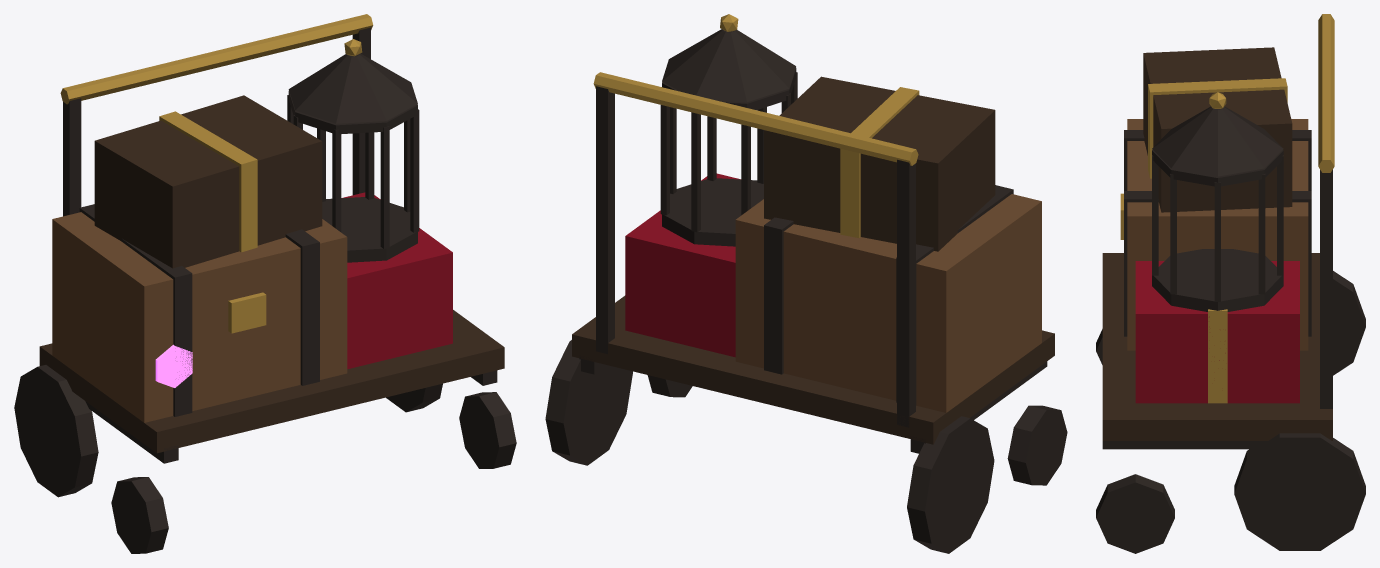
File: trolley.glb
The picture shows the model from 3 angles, left to right: view 1: azimuth 30°, elevation 25°; view 2: azimuth 150°, elevation 25°; view 3: azimuth 270°, elevation 25°; orthographic projection. The views are drawn at different scales.
Visible parts, largest first — view 1: Trunk_1, Trunk_3, Deck, Trunk_2, WheelBig_L, CageDome, HandleBar, CageBase, WheelSmall_R, WheelSmall_L, Trunk3_Strap, Trunk1_Strap1 (+13 smaller); view 2: Trunk_1, Trunk_3, Deck, Trunk_2, WheelBig_L, WheelBig_R, CageDome, HandleBar, HandlePost_L, HandlePost_R, CageBase, WheelSmall_L (+10 smaller); view 3: Trunk_2, Deck, Trunk_3, WheelBig_R, Trunk_1, CageDome, CageBase, WheelSmall_R, HandlePost_R, HandleBar, WheelBig_L, Trunk3_Strap (+10 smaller).
Part boxes in pixels (x1=…): Trunk_1: x1=52, y1=212, x2=347, y2=422; Trunk_3: x1=94, y1=95, x2=322, y2=268; Deck: x1=39, y1=310, x2=504, y2=453; Trunk_2: x1=341, y1=192, x2=452, y2=369; WheelBig_L: x1=14, y1=365, x2=98, y2=497; CageDome: x1=288, y1=53, x2=417, y2=123; HandleBar: x1=60, y1=14, x2=373, y2=104; CageBase: x1=322, y1=197, x2=417, y2=262; WheelSmall_R: x1=459, y1=392, x2=516, y2=468; WheelSmall_L: x1=111, y1=477, x2=168, y2=553; Trunk3_Strap: x1=159, y1=111, x2=257, y2=252; Trunk1_Strap1: x1=285, y1=229, x2=319, y2=385; Trunk_1: x1=735, y1=194, x2=1041, y2=412; Trunk_3: x1=764, y1=76, x2=995, y2=251; Deck: x1=572, y1=295, x2=1054, y2=444; Trunk_2: x1=625, y1=173, x2=740, y2=357; WheelBig_L: x1=907, y1=416, x2=994, y2=553; WheelBig_R: x1=545, y1=340, x2=632, y2=465; CageDome: x1=662, y1=29, x2=795, y2=102; HandleBar: x1=593, y1=72, x2=918, y2=165; HandlePost_L: x1=897, y1=159, x2=915, y2=427; HandlePost_R: x1=596, y1=86, x2=614, y2=354; CageBase: x1=662, y1=178, x2=763, y2=246; WheelSmall_L: x1=1007, y1=405, x2=1067, y2=485; Trunk_2: x1=1135, y1=261, x2=1299, y2=403; Deck: x1=1102, y1=253, x2=1332, y2=440; Trunk_3: x1=1143, y1=47, x2=1292, y2=212; WheelBig_R: x1=1234, y1=433, x2=1365, y2=550; Trunk_1: x1=1127, y1=119, x2=1308, y2=350; CageDome: x1=1152, y1=106, x2=1283, y2=176; CageBase: x1=1152, y1=249, x2=1283, y2=311; WheelSmall_R: x1=1096, y1=474, x2=1174, y2=553; HandlePost_R: x1=1320, y1=169, x2=1332, y2=408; HandleBar: x1=1318, y1=14, x2=1334, y2=172; WheelBig_L: x1=1333, y1=271, x2=1365, y2=375; Trunk3_Strap: x1=1148, y1=78, x2=1287, y2=178.
Bounding box in the file's own units: 1.26 × 1.39 × 0.82.
